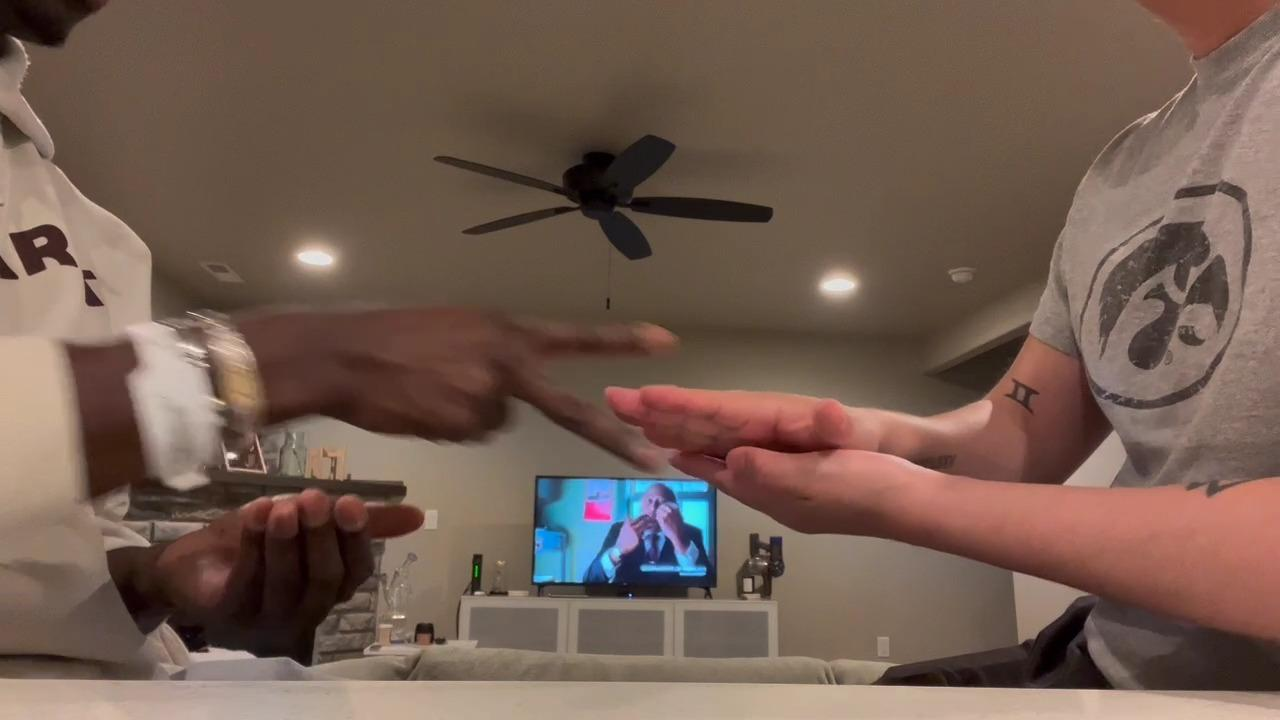Paper: (607, 383, 877, 461)
Scissors: (337, 299, 680, 480)
